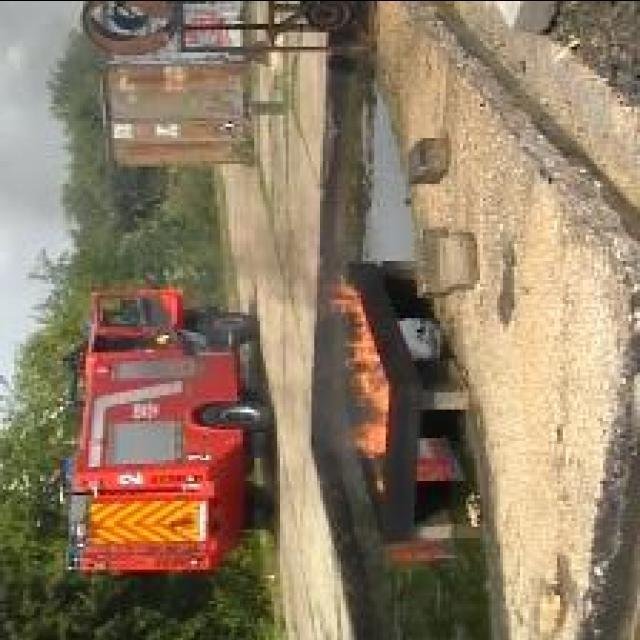Fire: (332, 276, 392, 456)
